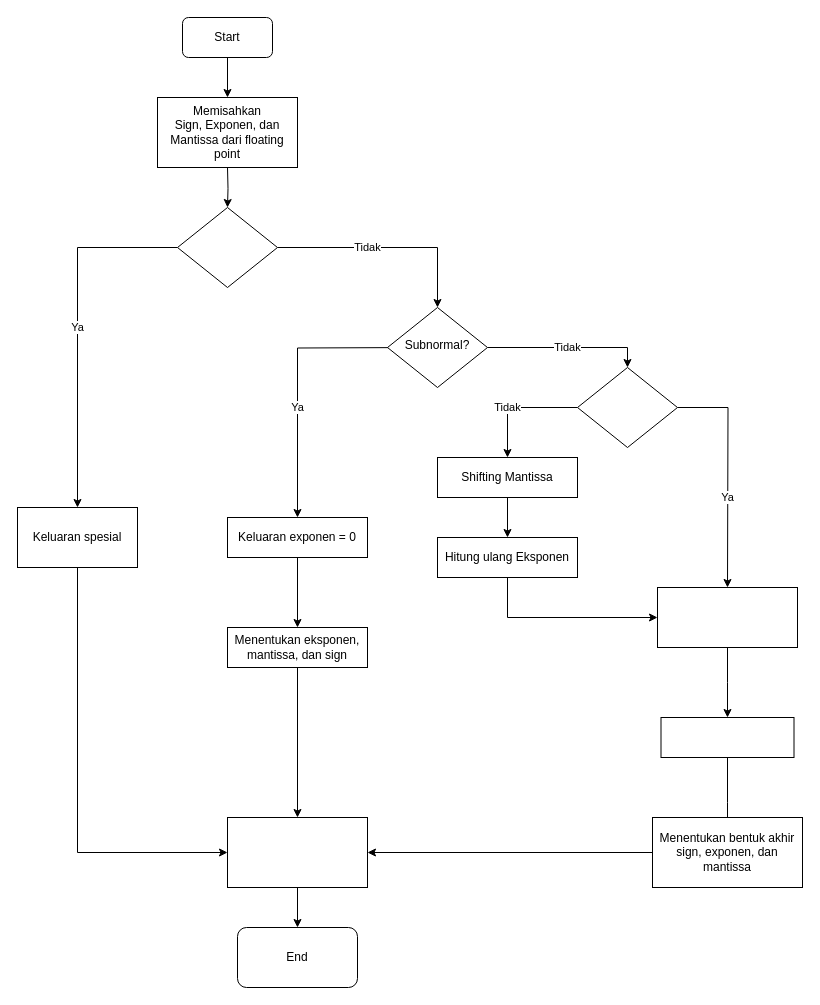
Some shapes in this 820 by 1005 pixel diagram are drawn without their labels. Each missing label, with the box of its shape:
Menentukan Eksponen, Melakukan operasi pada Mantissa: (656, 586, 798, 648)
Menggabungkan sign, exponen, dan mantissa: (226, 816, 368, 888)
Normal?: (576, 366, 678, 448)
Shifting posisi mantisa: (660, 716, 794, 758)
Special?: (176, 206, 278, 288)
